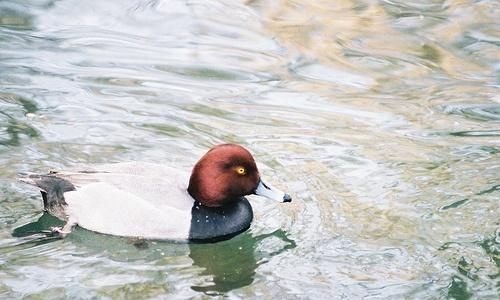bird: (29, 143, 293, 246)
